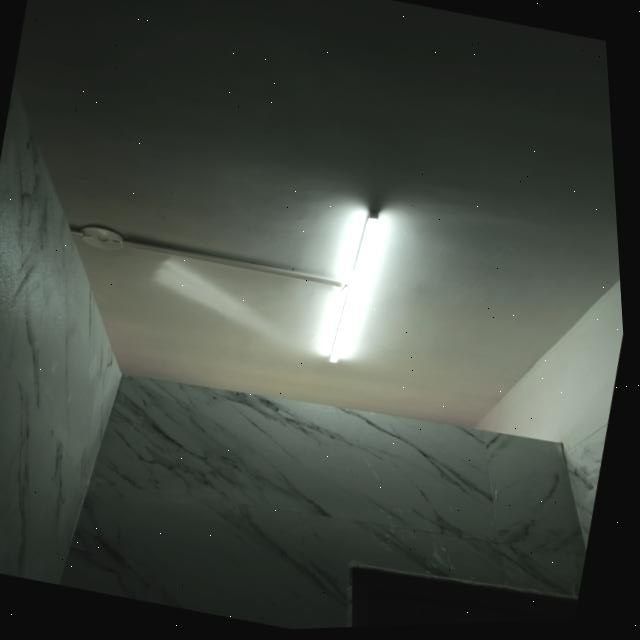fluorescent tube: (317, 204, 403, 378)
